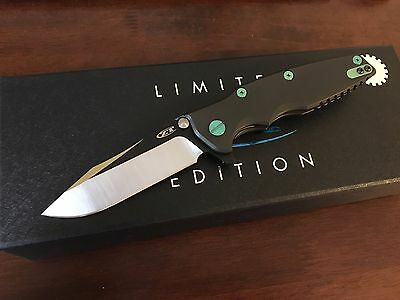knief: (21, 83, 383, 212)
